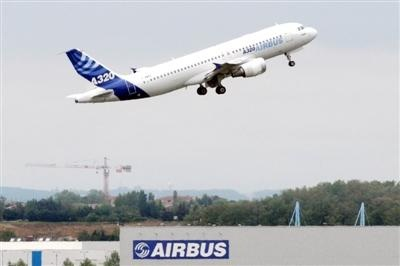airplane: (57, 24, 319, 108)
